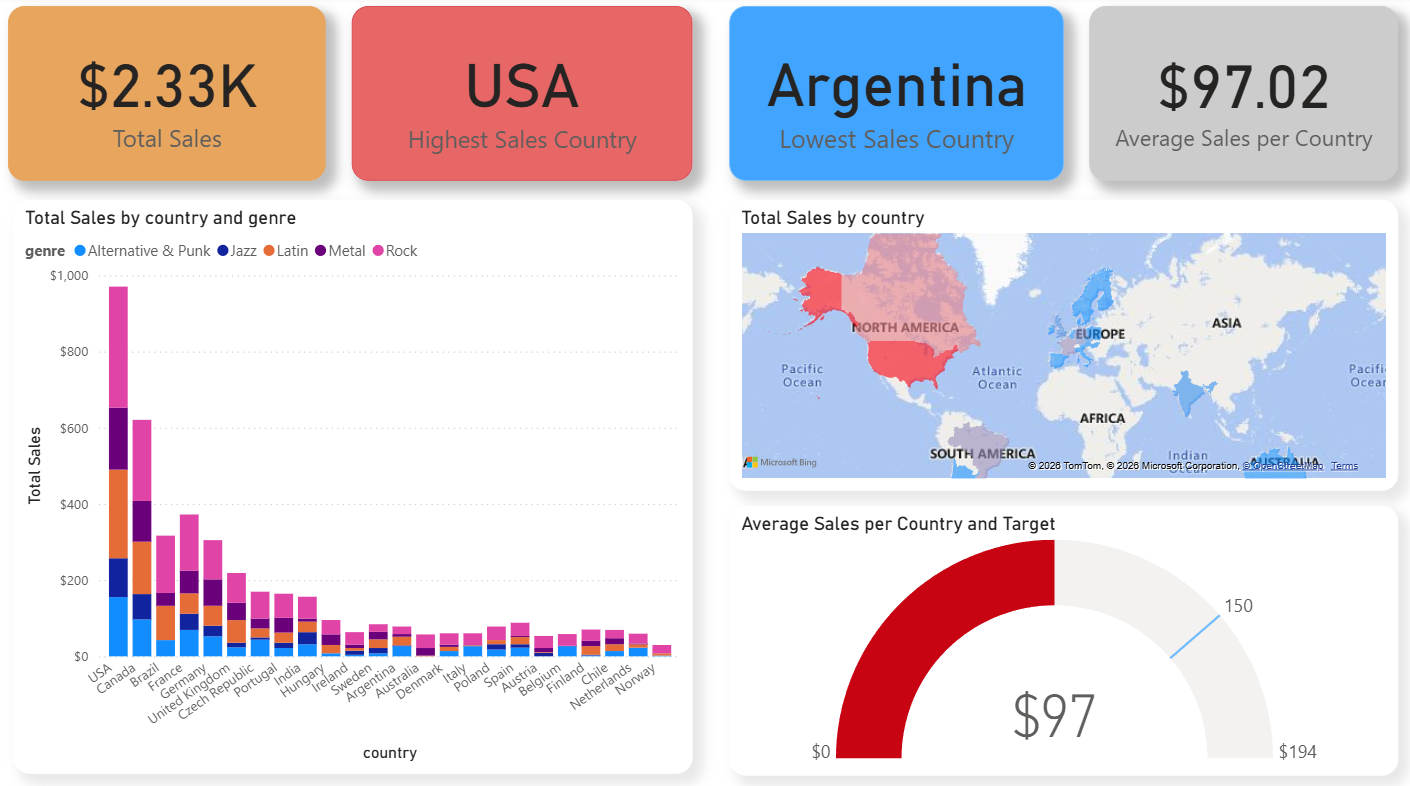

This screenshot's page, from the dashboard's own definition file:
{"tool":"powerbi","page":{"name":"Country Analysis","canvas":[1280,720],"ordinal":3},"visuals":[{"type":"card","fields":{"Values":["_measures.Total Sales"]},"box":[9.5,9.5,286.8,157.7],"z":0},{"type":"card","fields":{"Values":["_measures.Highest Sales Country"]},"box":[319.4,9.5,307.2,157.7],"z":1000},{"type":"card","fields":{"Values":["_measures.Lowest Sales Country"]},"box":[659.2,9.5,301.7,157.7],"z":2000},{"type":"card","fields":{"Values":["_measures.Average Sales per Country"]},"box":[984,9.5,278.6,157.7],"z":3000},{"type":"columnChart","fields":{"Category":["customer.country"],"Y":["_measures.Total Sales"],"Series":["genre.name"]},"box":[13.6,183.5,613,517.8],"z":4000},{"type":"filledMap","fields":{"Category":["customer.country"]},"box":[659.2,183.5,603.4,262.3],"z":5000},{"type":"gauge","fields":{"TargetValue":["_measures.target_"],"Y":["_measures.Average Sales per Country"]},"box":[659.2,459.4,603.4,243.3],"z":6000}]}

Visuals, with their boxes in screenshot pixels (x1, y1, x2, y2), scaled from the page's 1280x720 canvas onto the 1410x786 screenshot:
card - _measures.Total Sales: box(10, 10, 326, 183)
card - _measures.Highest Sales Country: box(352, 10, 690, 183)
card - _measures.Lowest Sales Country: box(726, 10, 1058, 183)
card - _measures.Average Sales per Country: box(1084, 10, 1391, 183)
columnChart - customer.country x _measures.Total Sales: box(15, 200, 690, 766)
filledMap - customer.country: box(726, 200, 1391, 487)
gauge - _measures.target_ x _measures.Average Sales per Country: box(726, 502, 1391, 767)
